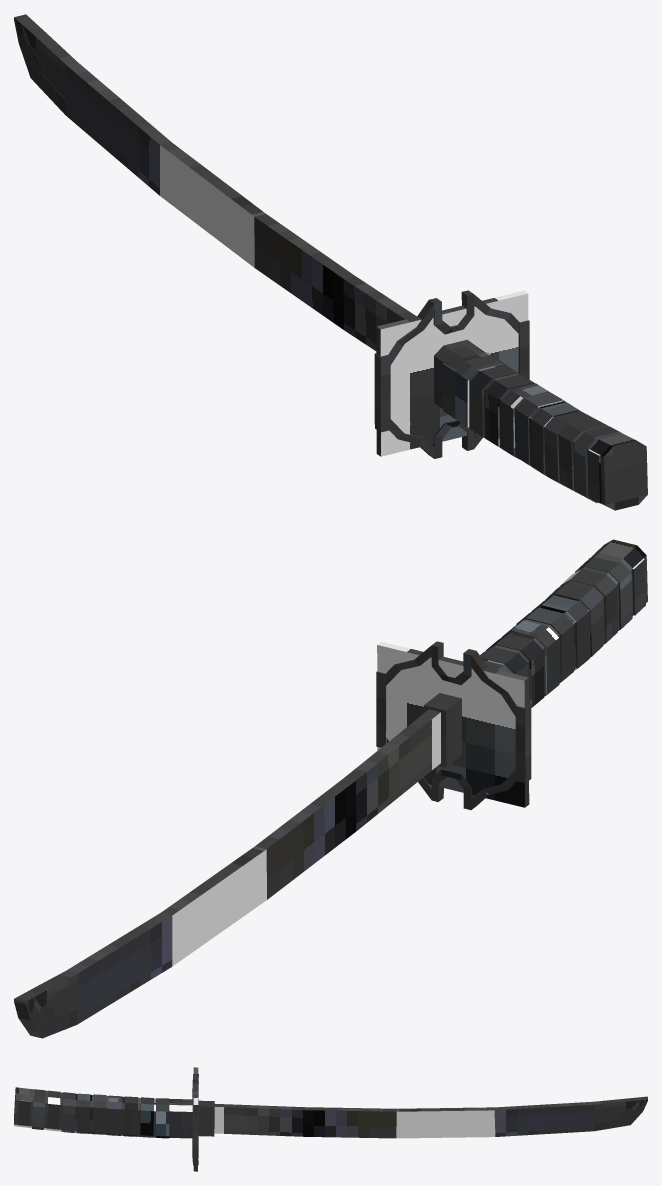
Rendered from wakizashi.obj.
3 renders of one model, top to bottom at view 1: azimuth 30°, elevation 25°; view 2: azimuth 150°, elevation 25°; view 3: azimuth 270°, elevation 25°, orthographic. The views are drawn at different scales.
Parts seen in each view (by area): view 1: wakazashi; view 2: wakazashi; view 3: wakazashi.
Part boxes in pixels (left/top/right/bottom): wakazashi: left=14, top=14, right=647, bottom=510; wakazashi: left=14, top=539, right=647, bottom=1038; wakazashi: left=14, top=1067, right=647, bottom=1171.
Bounding box in the file's own units: 0.2851 × 0.2843 × 2.01.
